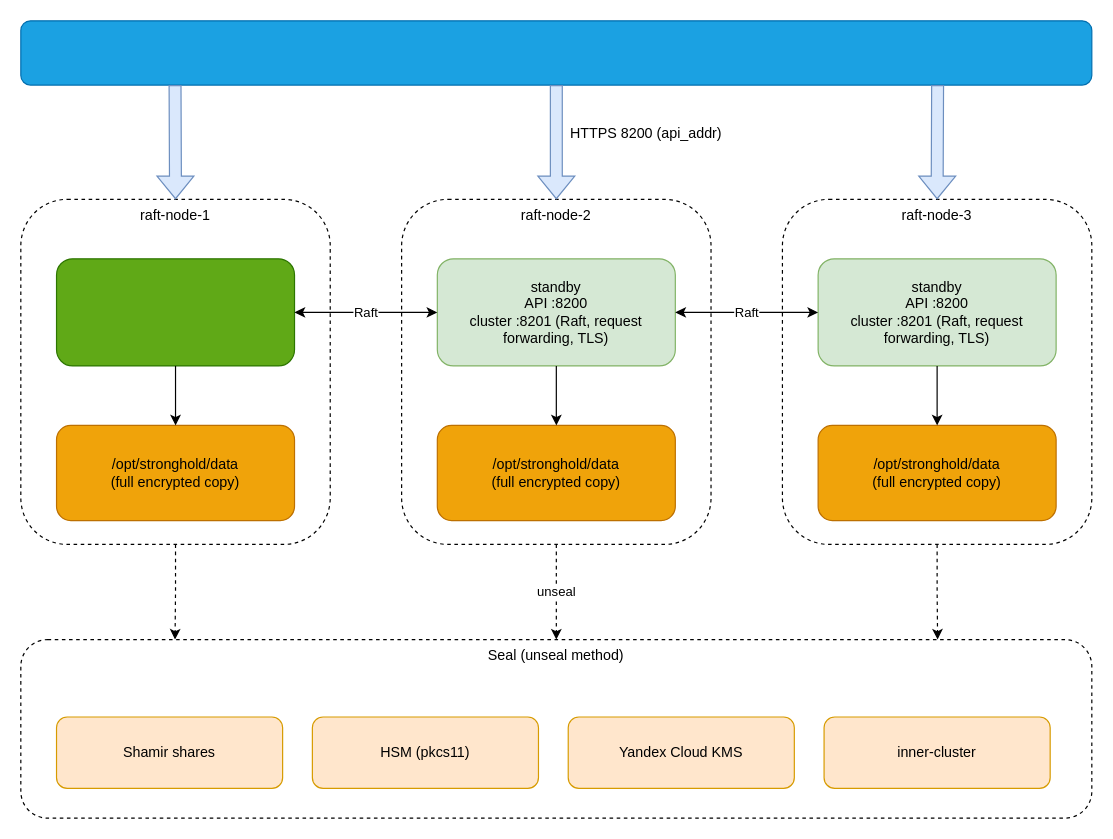
Some shapes in this 1113 by 839 pixel diagram are drawn without their labels. Each missing label, with the centre of its shape:
active API :8200 cluster :8201 (Raft, request forwarding, TLS): point 175,312
Clients, CLI, applications: point 556,52
